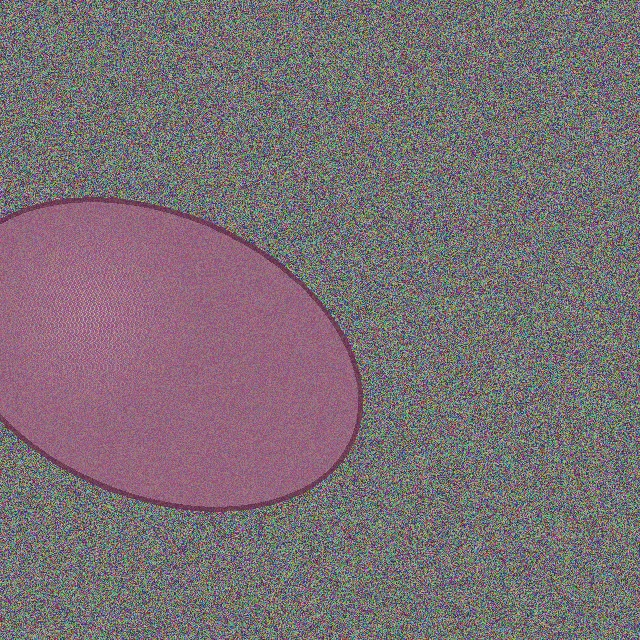lens: (0, 199, 360, 509)
